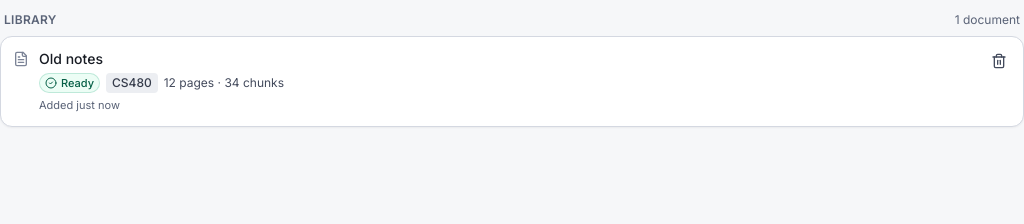
Test: DocumentList › deletes only after confirmation
The width and height of the screenshot is (1024, 224).
Click the button named "Delete Old notes": (999, 61) [983, 45, 1015, 77]
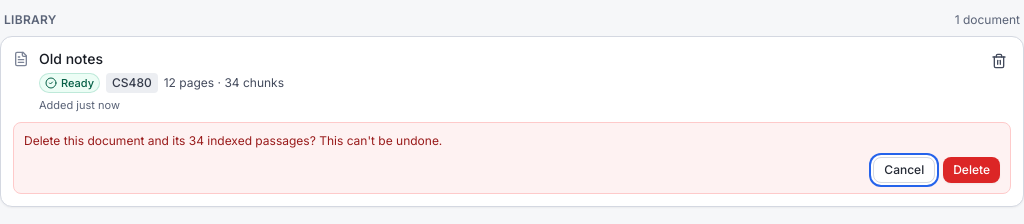
Result: the element named "Confirm deleting Old notes" shows "its 34 indexed passages" at [144, 132, 310, 148]
Click the button "Cancel": (904, 170) [873, 156, 935, 182]
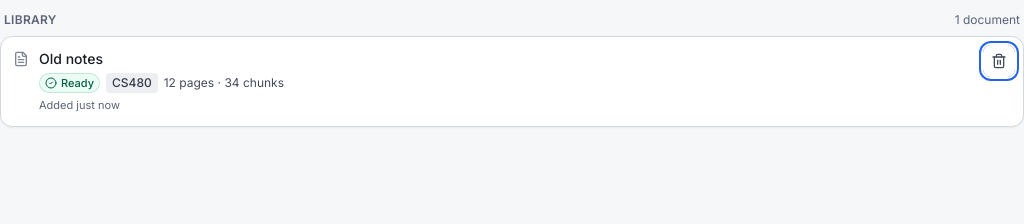
Click the button named "Delete Old notes": (999, 61) [983, 45, 1015, 77]
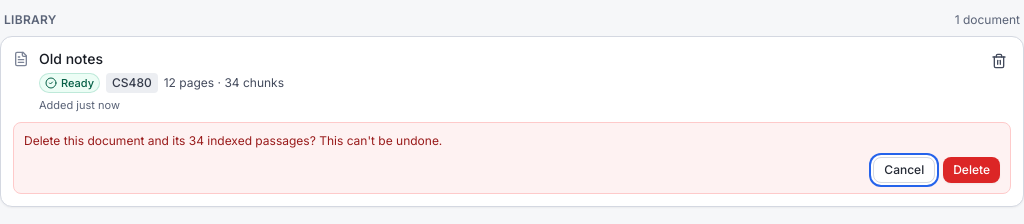
Click the button "Delete": (972, 170) [943, 156, 1000, 182]
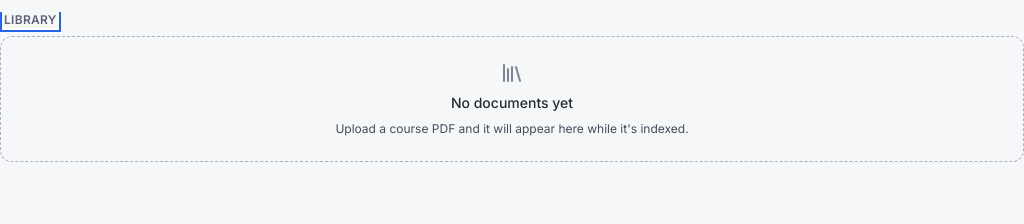
Result: the text "No documents yet" is shown at [451, 93, 573, 113]
